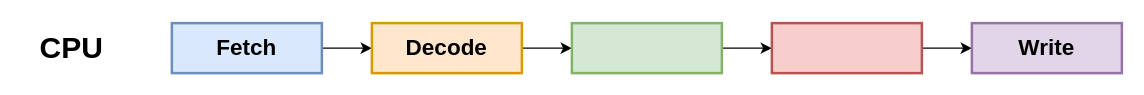
Some shapes in this 1144 by 95 pixel diagram are drawn without their labels. Here are the shapes that lost their labels. From the top down, the box of each, then its label:
(570, 21, 722, 74): Execute
(770, 21, 922, 74): Memory
